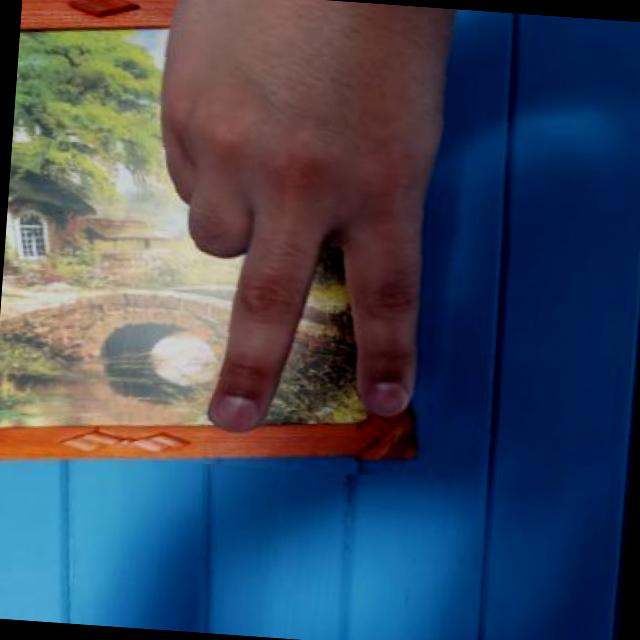N: (115, 0, 483, 480)
